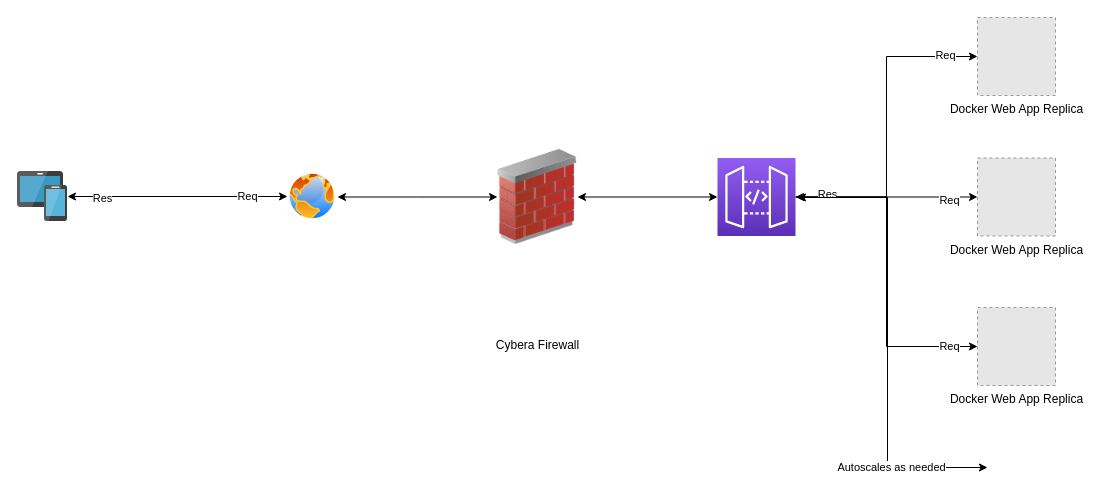
This 1100x494 diagram has some shape labels left out. Grey dashed boxes stand in for pictures. Each missing label, with the box of its shape:
Autoscaling Gateway Manager Node: (716, 157, 796, 236)
IPV4 Http Gateway: (287, 171, 337, 221)
